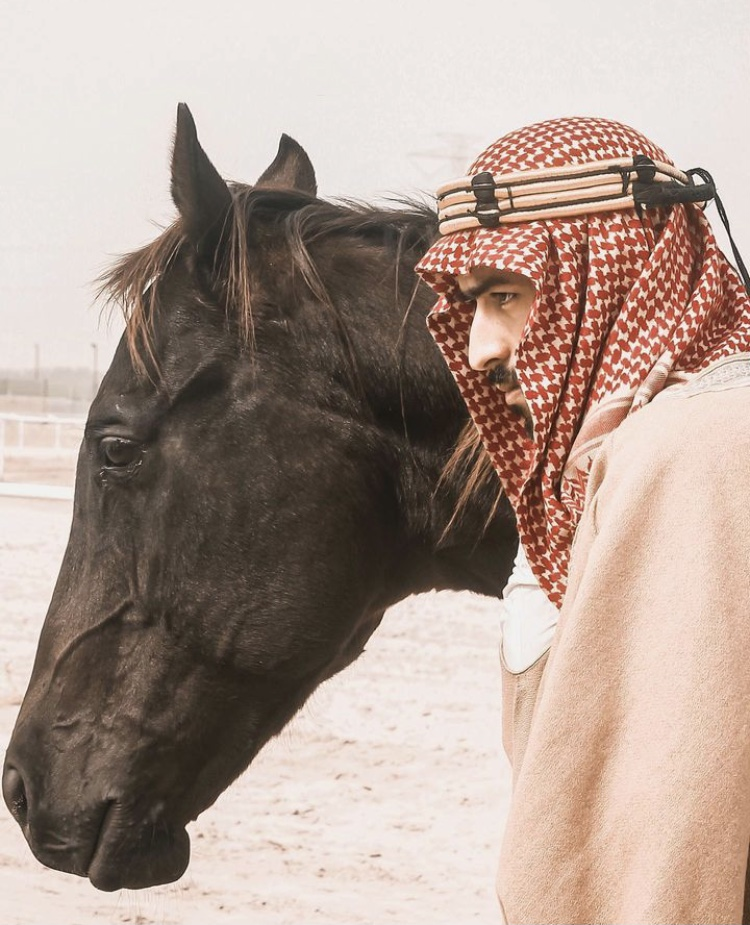Saudi_Founding_Day: (411, 110, 750, 925)
